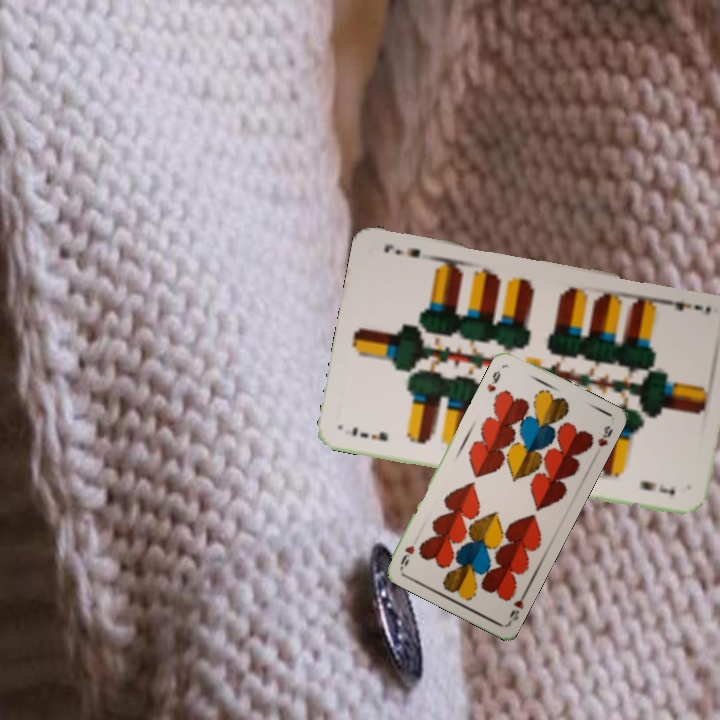E7: (660, 295, 713, 318), (347, 422, 390, 444)
H9: (505, 587, 530, 625), (483, 367, 503, 394)
